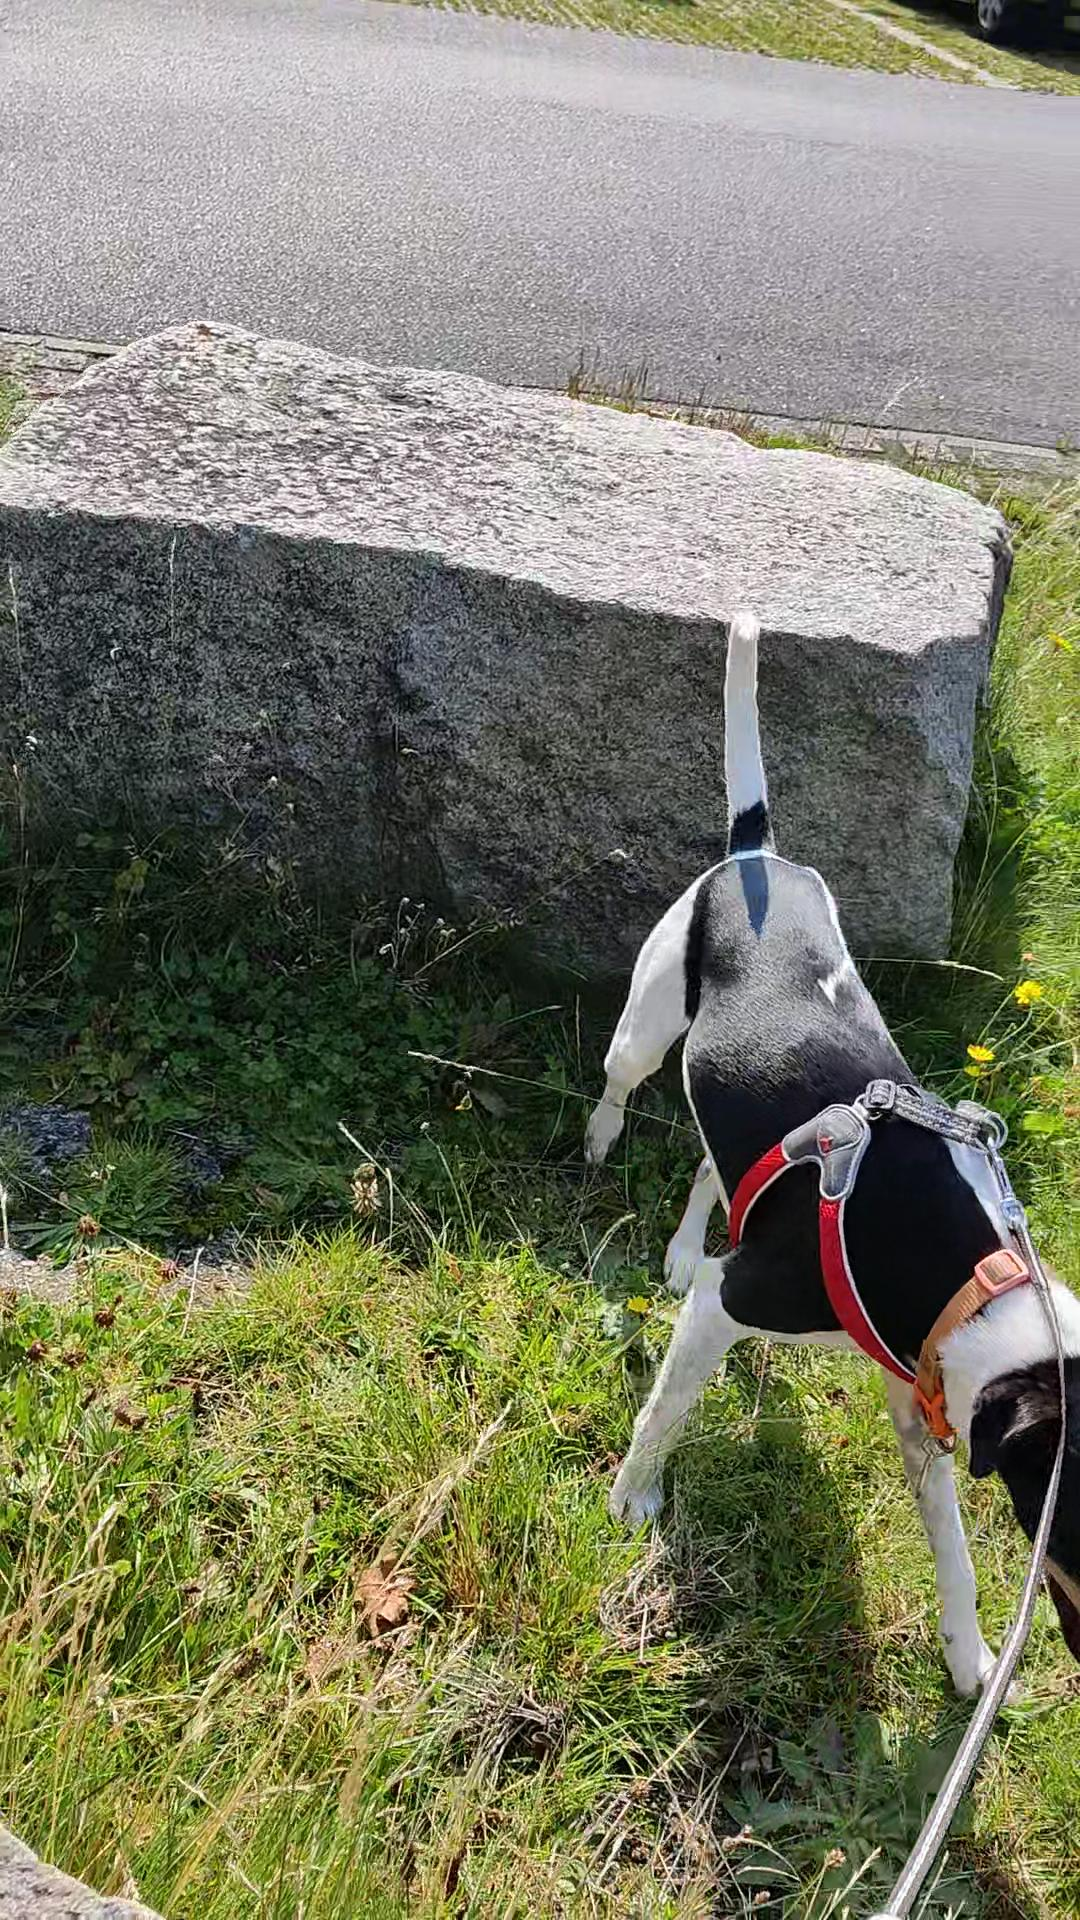Dog: (583, 595, 1079, 1733)
